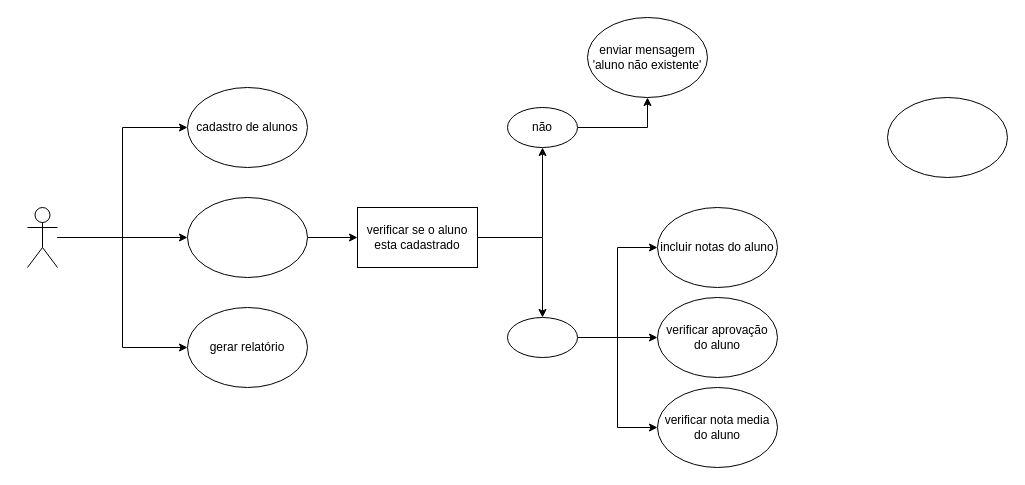
Image size: 1025x485. Some labels were removed from this diagram. Each missing label, with the centre of its shape:
"acessar informações do aluno" belongs at [247,237].
"Professor" belongs at [42,237].
"receber notas" belongs at [947,137].
"sim" belongs at [542,337].
